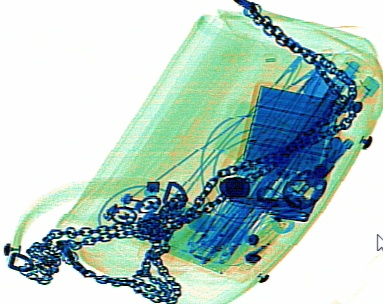powerbank: (234, 78, 342, 184)
